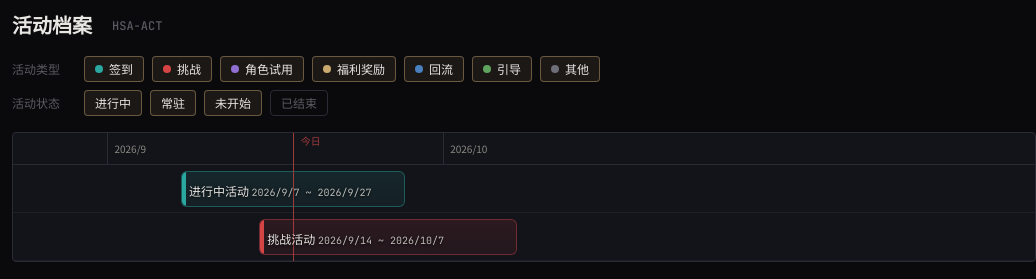
it: ActivityArchive › filters by type group chip
The image size is (1036, 279).
Click the button "签到": (114, 69) [84, 56, 144, 82]
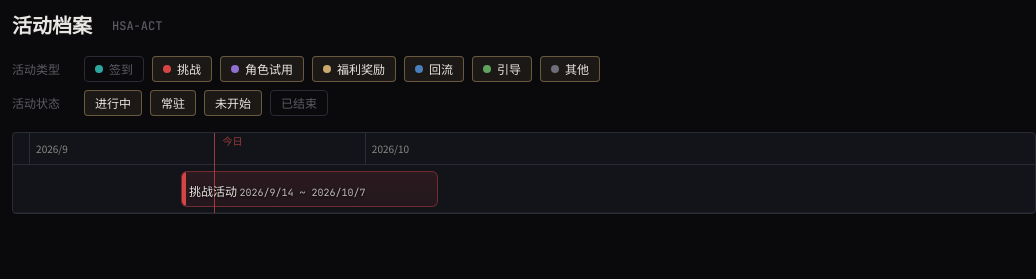
Expected: the text "挑战活动" is shown, [189, 182, 237, 198]
Now the text "进行中活动" is gone
